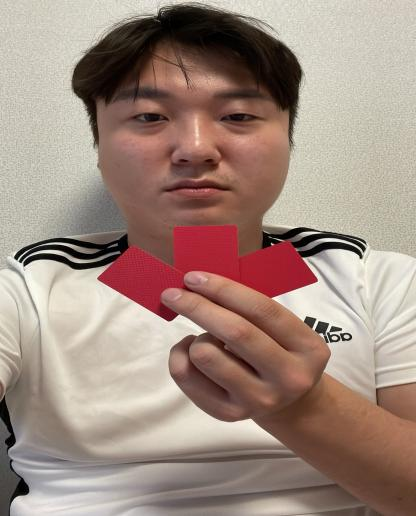ThreeHwatoo: (68, 221, 341, 316)
